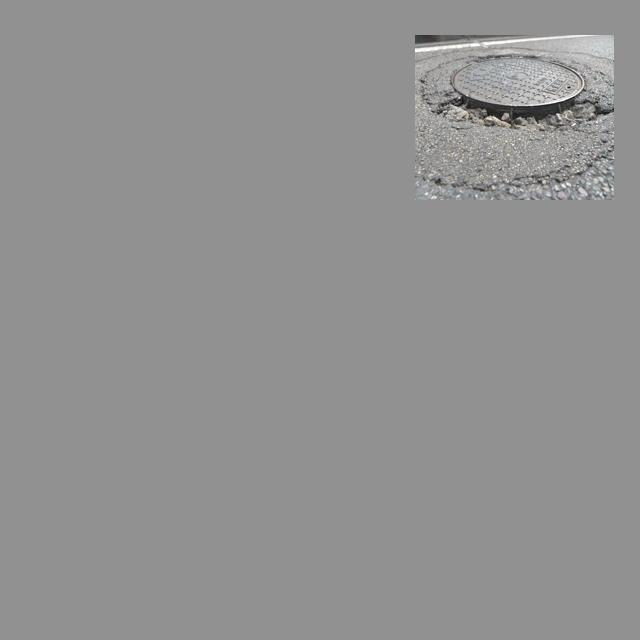circle: (421, 50, 606, 136)
